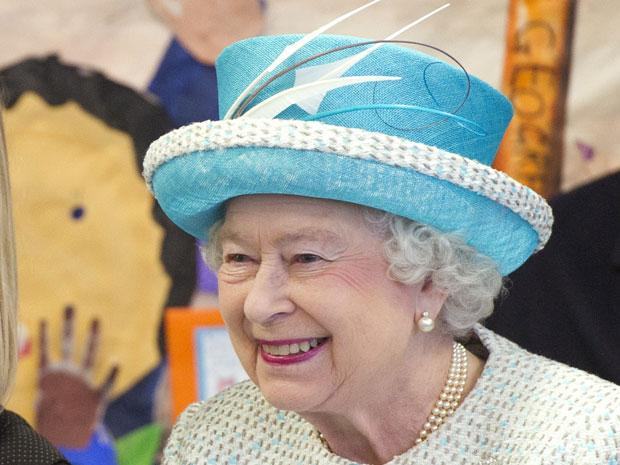cap: (139, 20, 573, 286)
